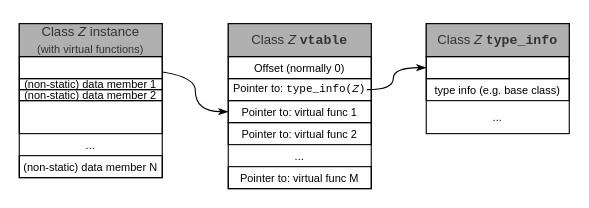
Some shapes in this 589 by 208 pixel diagram are drawn without their labels. Each missing label, with the centre of its shape:
(non-static) data member 3: point 90,117
type info (e.g. name): point 497,67
vptr: point 90,67
